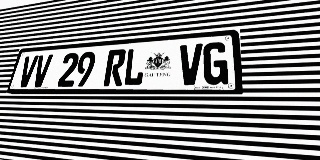2: (57, 52, 80, 87)
9: (74, 51, 97, 87)
G: (203, 41, 228, 85)
L: (122, 47, 146, 86)
R: (103, 49, 127, 86)
V: (178, 43, 203, 85), (31, 54, 53, 87), (17, 55, 39, 87)
